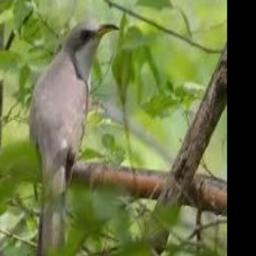Cuckoo: (30, 20, 119, 256)
